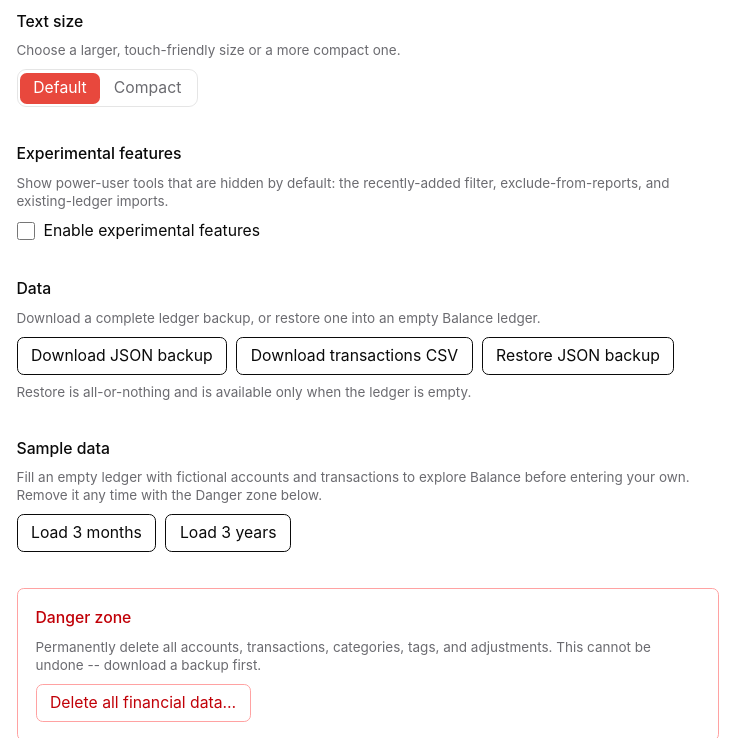
Test: Household -- sample data › loads three years of sample data into an empty ledger, then disables the offer
This screenshot has width=736, height=738.
(page scrolled)
Click the button "Load 3 years" at (228, 533), box [165,514,291,552]
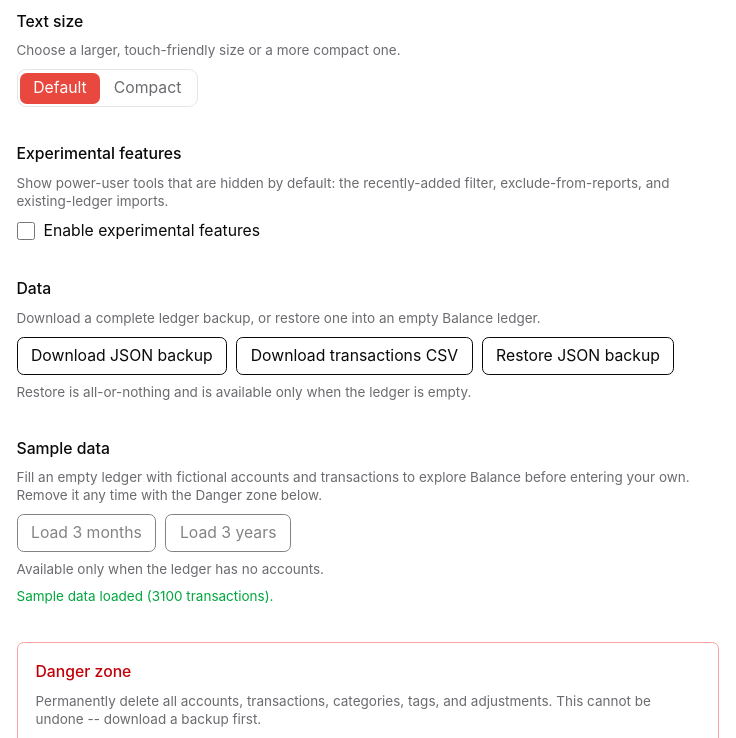
Now the message reads "Sample data loaded (3100 transactions).", box [16,588,274,604]
Now the button "Load 3 years" is disabled, box [165,514,291,552]
Now the button "Load 3 months" is disabled, box [16,514,156,552]
